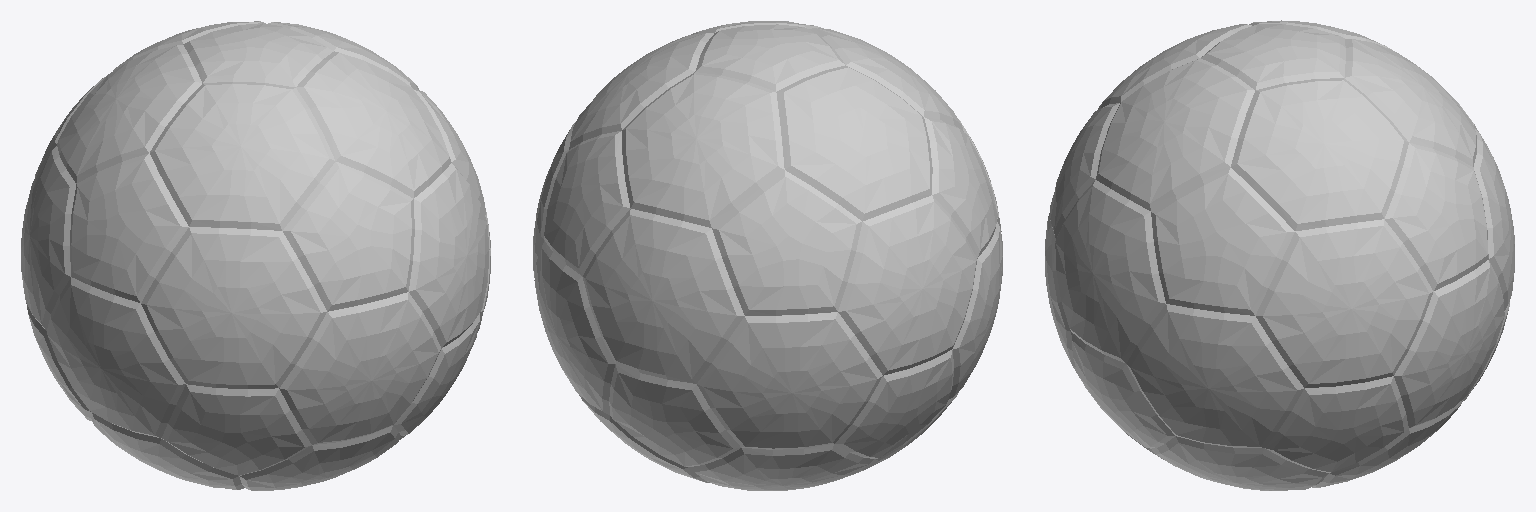
The model's file is soccerball.obj.
3 views of the same model, side by side, from view 1: azimuth 30°, elevation 25°; view 2: azimuth 150°, elevation 25°; view 3: azimuth 270°, elevation 25° (orthographic).
Visible parts, largest first — view 1: white, black; view 2: white, black; view 3: white, black.
Part boxes in pixels (bbox=[...]): white: bbox=[21, 21, 490, 490]; black: bbox=[26, 23, 485, 475]; white: bbox=[533, 21, 1002, 490]; black: bbox=[544, 24, 997, 466]; white: bbox=[1045, 20, 1514, 490]; black: bbox=[1050, 24, 1509, 472].
Size of the model in its own units: 9.36 by 9.39 by 9.39.